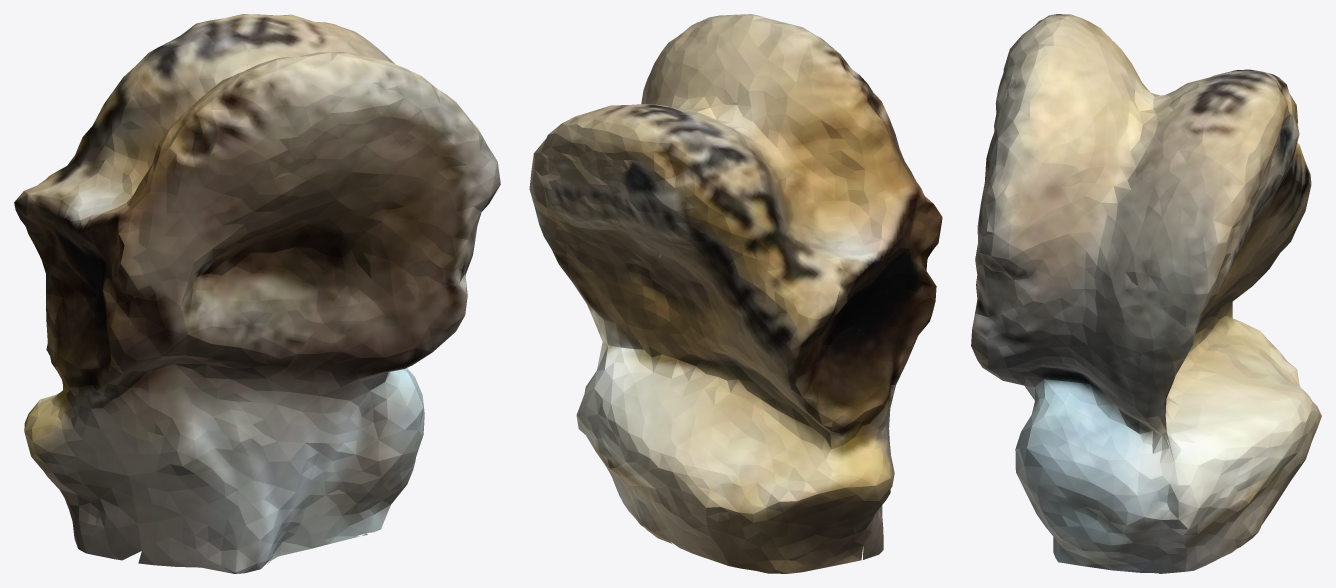
File: APS.2006.41e.glb
The picture shows the model from 3 angles, left to right: view 1: azimuth 30°, elevation 25°; view 2: azimuth 150°, elevation 25°; view 3: azimuth 270°, elevation 25°; orthographic projection. The views are drawn at different scales.
Size of the model in its own units: 0.0143 by 0.0172 by 0.0111.
Materials: 1 (1 with a texture image).
